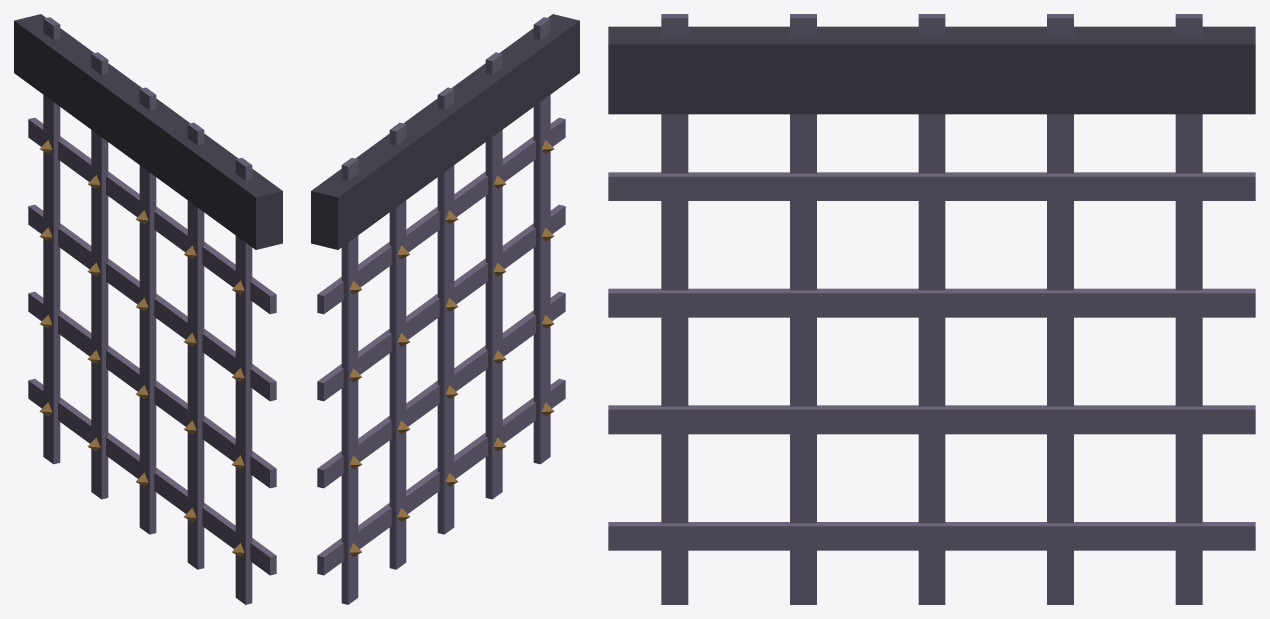
The model's file is JailWall.FBX.
The picture shows the model from 3 angles, left to right: view 1: azimuth 30°, elevation 25°; view 2: azimuth 150°, elevation 25°; view 3: azimuth 270°, elevation 25°; orthographic projection. The views are drawn at different scales.
Visible parts, largest first — view 1: JailWall; view 2: JailWall; view 3: JailWall.
Part boxes in pixels (left/top/right/bottom): JailWall: left=14, top=14, right=282, bottom=604; JailWall: left=311, top=14, right=579, bottom=604; JailWall: left=608, top=14, right=1255, bottom=604.
Size of the model in its own units: 0.1616 by 2.5 by 2.5.
